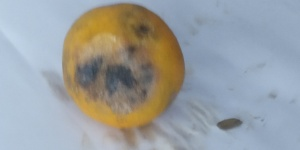BAD: (60, 2, 186, 126)
